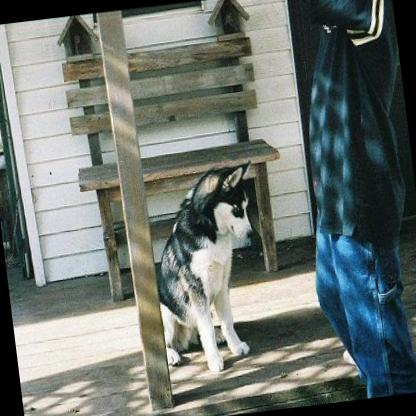Siberian_husky: (141, 158, 273, 377)
